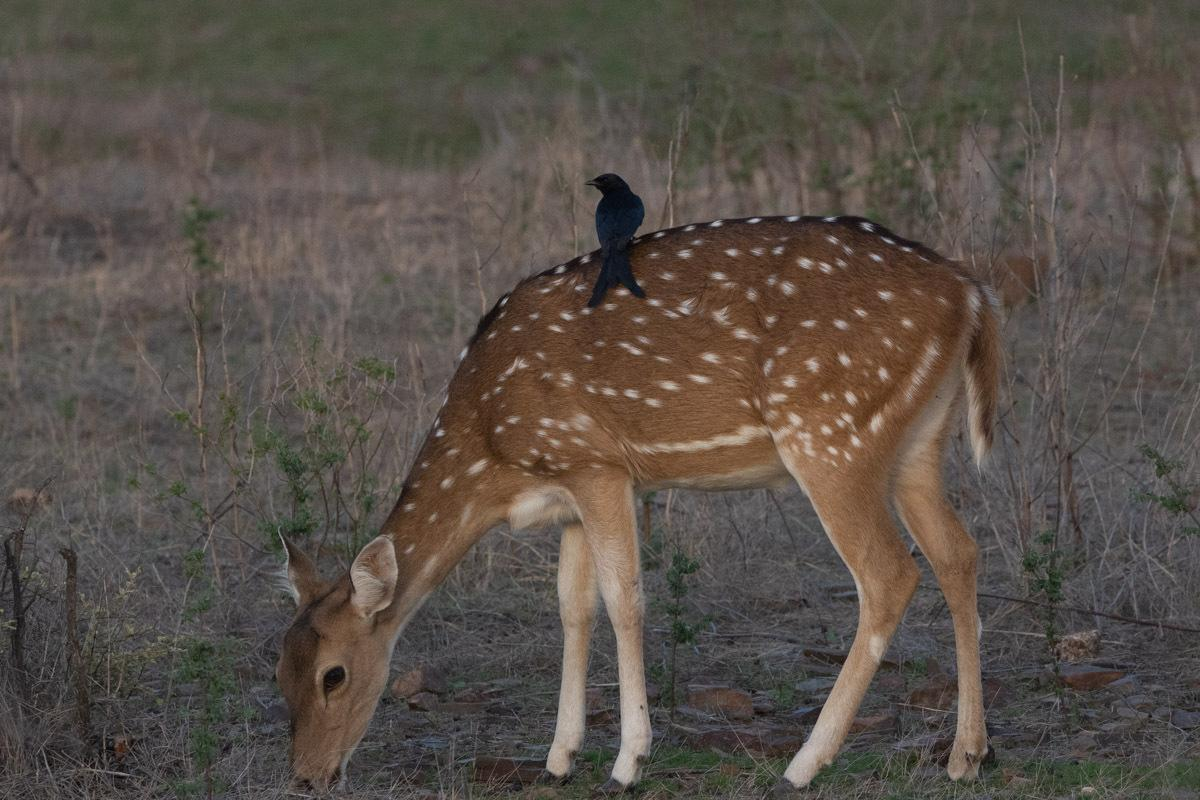Deer: (276, 216, 1000, 788)
